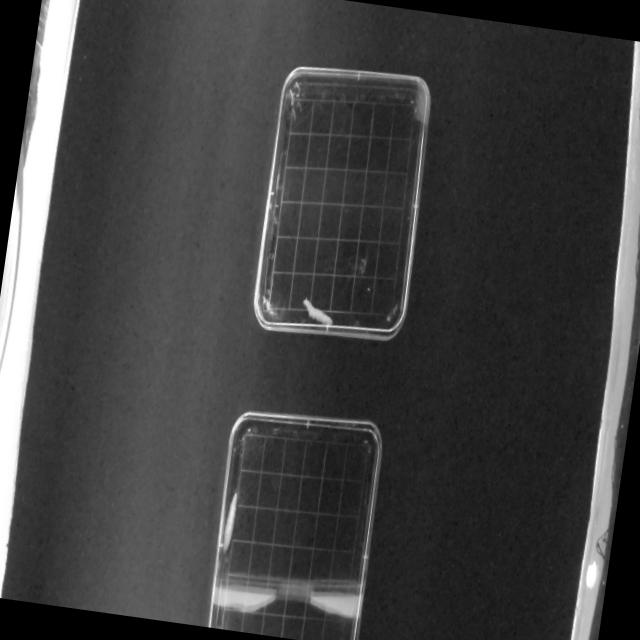larva: (299, 296, 336, 328)
